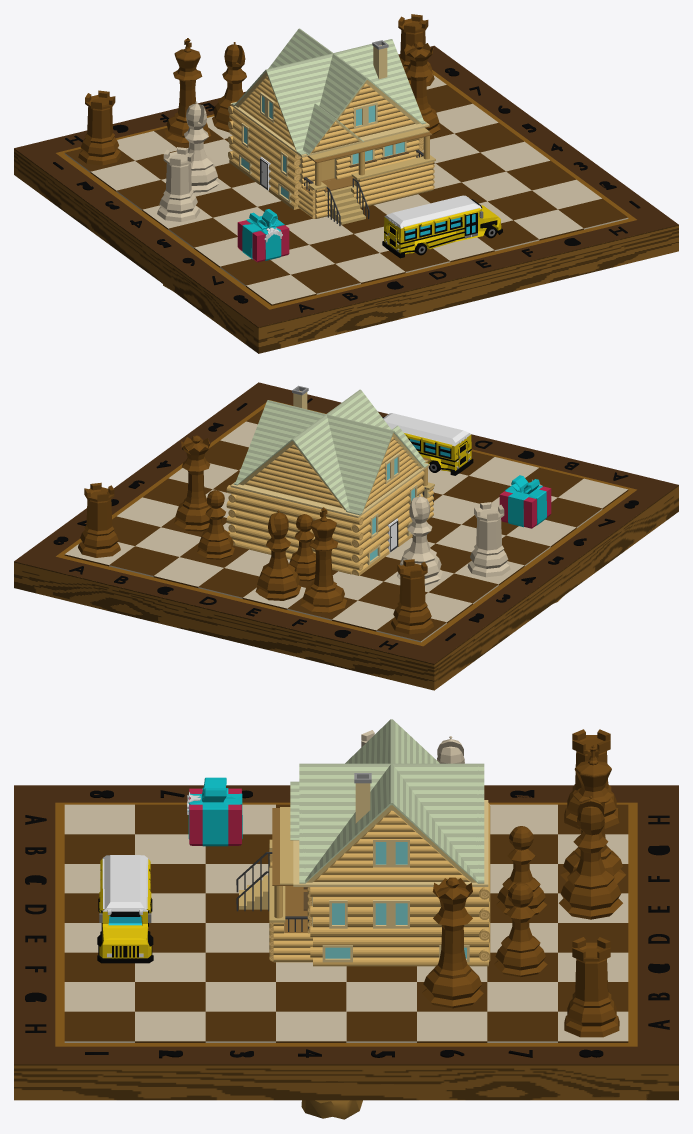
3 renders of one model, top to bottom at view 1: azimuth 30°, elevation 25°; view 2: azimuth 150°, elevation 25°; view 3: azimuth 270°, elevation 25°, orthographic. The views are drawn at different scales.
Visible parts, largest first — view 1: Cube.002, Cube.1516, VEHICLES_SCHOOL_BUS, OBJRANDOM_GIANT_PRESENT; view 2: Cube.002, Cube.1516, VEHICLES_SCHOOL_BUS, OBJRANDOM_GIANT_PRESENT; view 3: Cube.002, Cube.1516, VEHICLES_SCHOOL_BUS, OBJRANDOM_GIANT_PRESENT, UNDERGROUND_T_REX_BONES.
Part boxes in pixels (x1,y1,x2,y2): Cube.002: (14, 14, 678, 353); Cube.1516: (228, 28, 435, 225); VEHICLES_SCHOOL_BUS: (382, 195, 502, 258); OBJRANDOM_GIANT_PRESENT: (237, 209, 289, 262); Cube.002: (14, 382, 678, 690); Cube.1516: (226, 385, 434, 575); VEHICLES_SCHOOL_BUS: (382, 413, 473, 475); OBJRANDOM_GIANT_PRESENT: (499, 475, 551, 528); Cube.002: (14, 729, 678, 1100); Cube.1516: (236, 719, 490, 966); VEHICLES_SCHOOL_BUS: (97, 855, 153, 963); OBJRANDOM_GIANT_PRESENT: (187, 777, 242, 846); UNDERGROUND_T_REX_BONES: (301, 1100, 362, 1119).
Size of the model in its own units: 3981 by 1597 by 4012.
36 materials, 3 textured.
